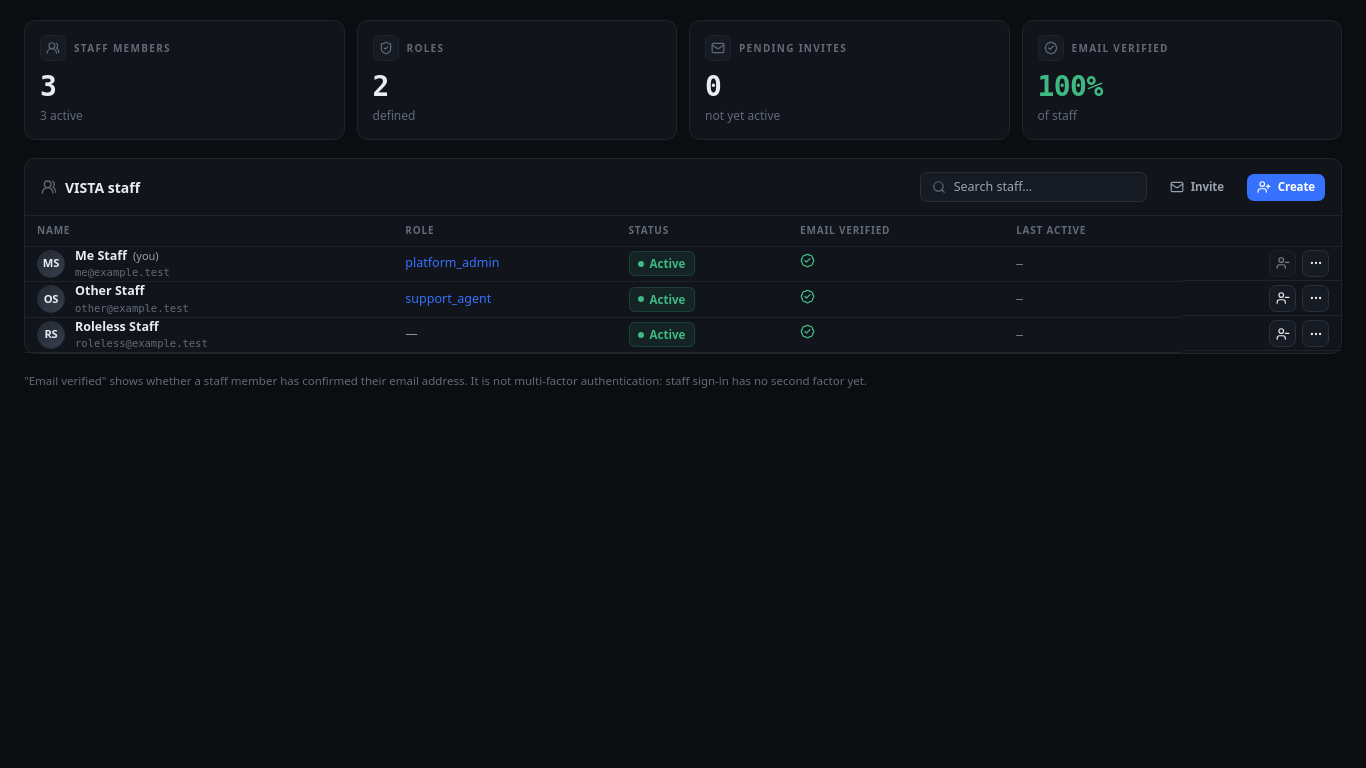
Test: Staff role gating › shows the server's 403 message inline
Click the button with class "op-btn" in the row of "OS" at {"x": 1316, "y": 298}, box [1302,284,1329,312]
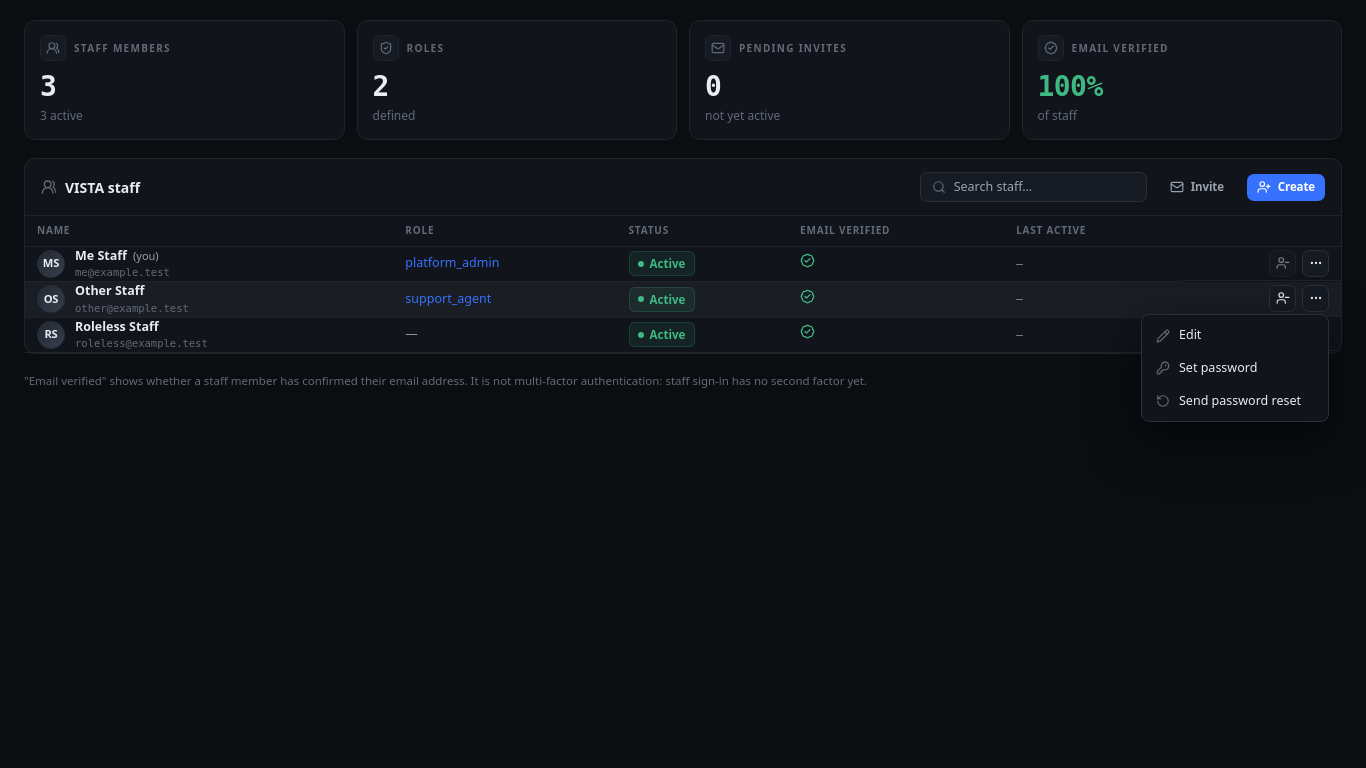
Click the button "Edit" at {"x": 1235, "y": 336}, box [1146,319,1324,352]
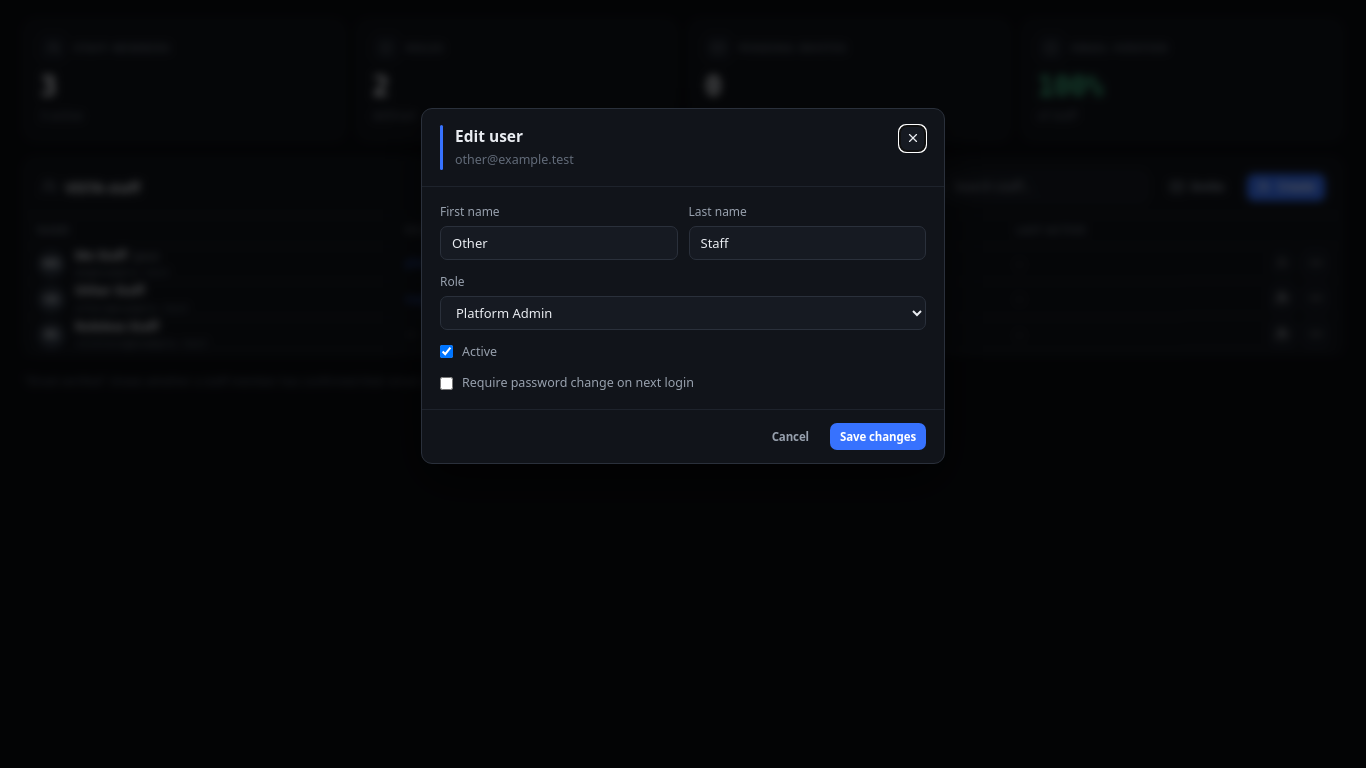
Select "Platform Admin" in the dropdown named "Role" at {"x": 683, "y": 312}, box [440,296,926,330]
Click the button "Save changes" at {"x": 878, "y": 436}, box [830,423,926,450]
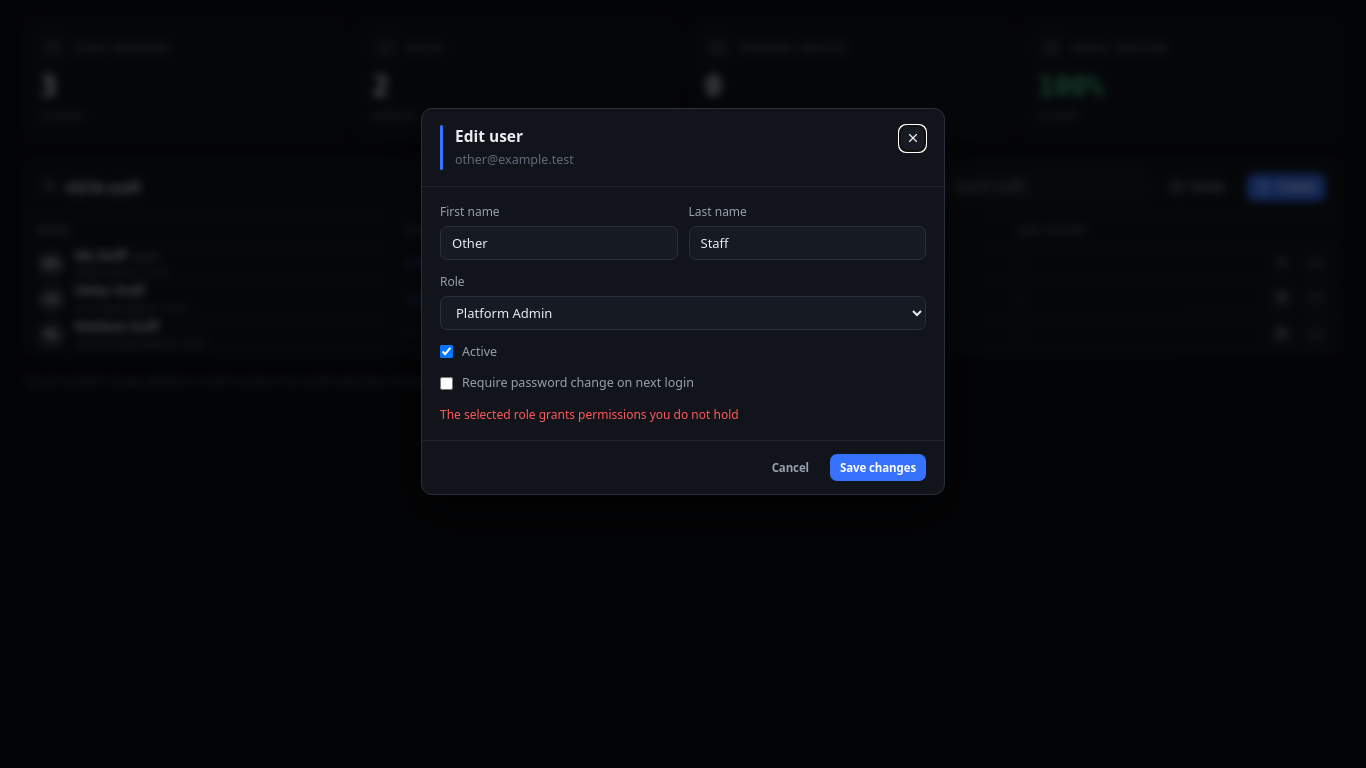
Now the message "The selected role grants permissions you do not hold" is shown, box [440,406,739,423]
